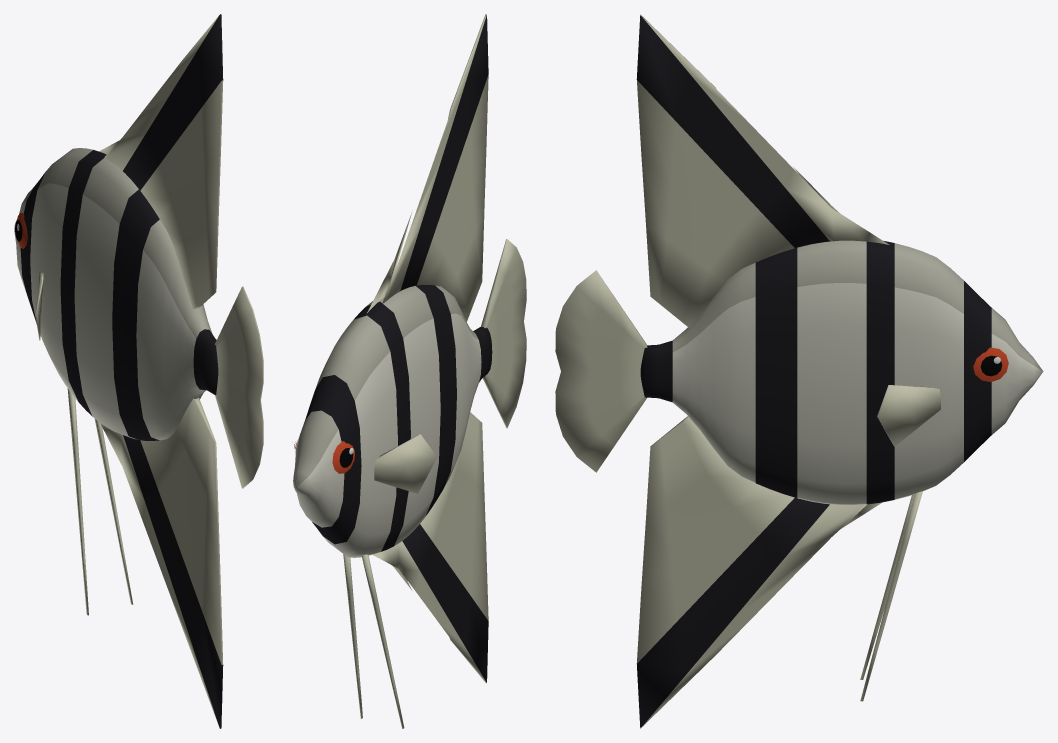
File: angelfish.glb
3 renders of one model, left to right at view 1: azimuth 30°, elevation 25°; view 2: azimuth 150°, elevation 25°; view 3: azimuth 270°, elevation 25°, orthographic. The views are drawn at different scales.
Parts seen in each view (by area): view 1: angelfish; view 2: angelfish; view 3: angelfish.
Boxes of the visible parts, x1,y1,x2,y2 form: angelfish: (14,14,263,728); angelfish: (292,14,526,728); angelfish: (555,14,1043,728).
Size of the model in its own units: 0.5415 by 2.78 by 1.72.
